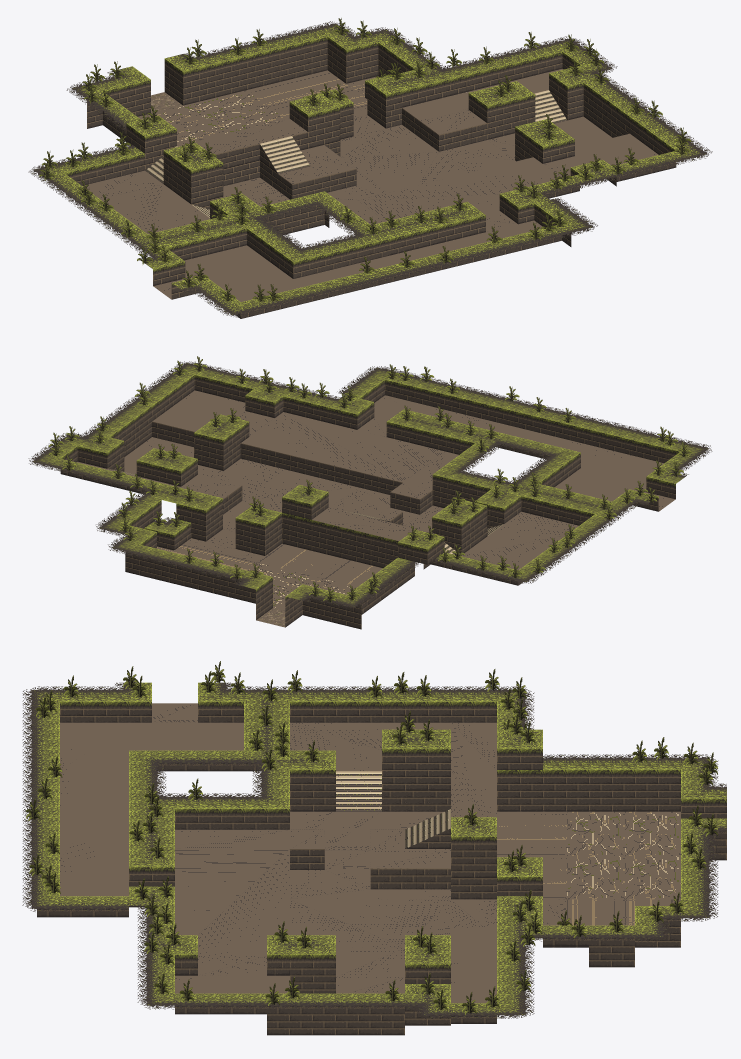
Rendered from Raum2.fbx.
3 views of the same model, one above another, from view 1: azimuth 30°, elevation 25°; view 2: azimuth 150°, elevation 25°; view 3: azimuth 270°, elevation 25° (orthographic). The views are drawn at different scales.
Visible parts, largest first — view 1: Raum2; view 2: Raum2; view 3: Raum2.
Boxes of the visible parts, x1=… form: Raum2: x1=28, y1=18, x2=712, y2=318; Raum2: x1=28, y1=356, x2=712, y2=629; Raum2: x1=22, y1=661, x2=726, y2=1035.
Bounding box in the file's own units: 70.75 × 8 × 62.
